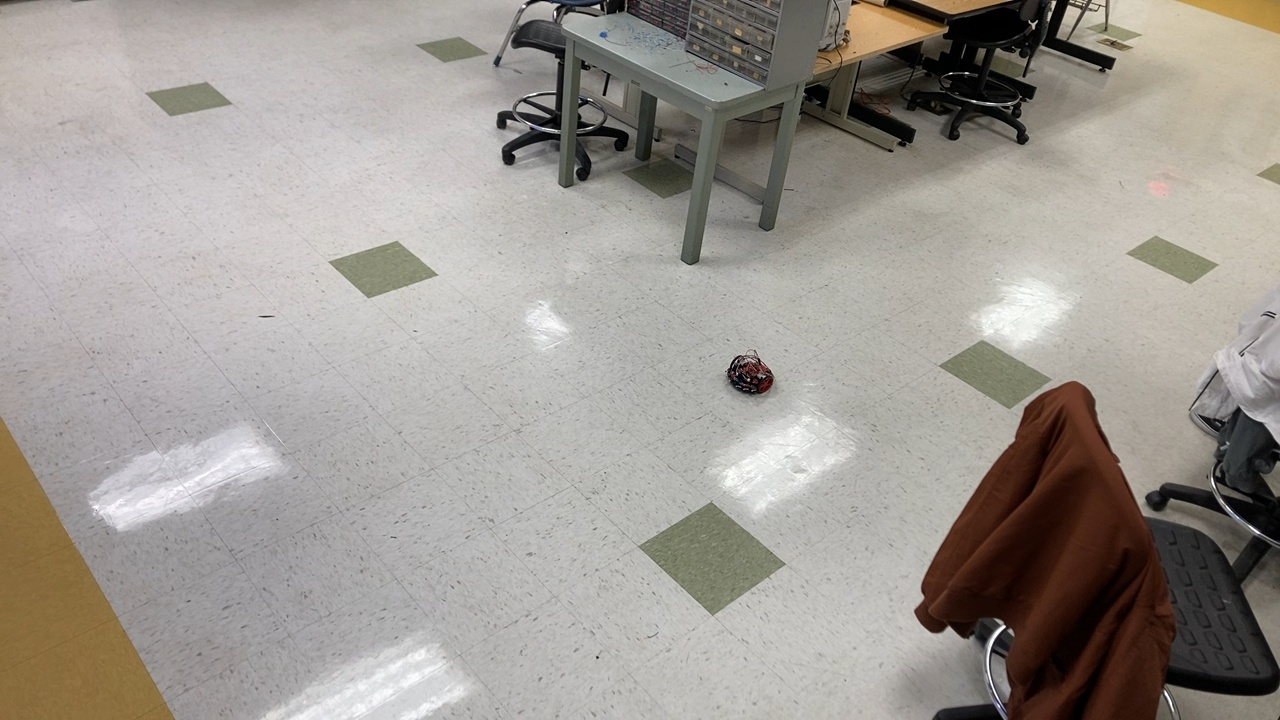robot: (723, 346, 777, 398)
